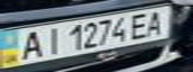1: (63, 21, 84, 52)
2: (81, 19, 103, 48)
4: (109, 14, 133, 43)
7: (96, 16, 115, 46)
A: (12, 28, 48, 61), (142, 8, 172, 37)
E: (127, 10, 157, 39)
I: (39, 25, 66, 56)
